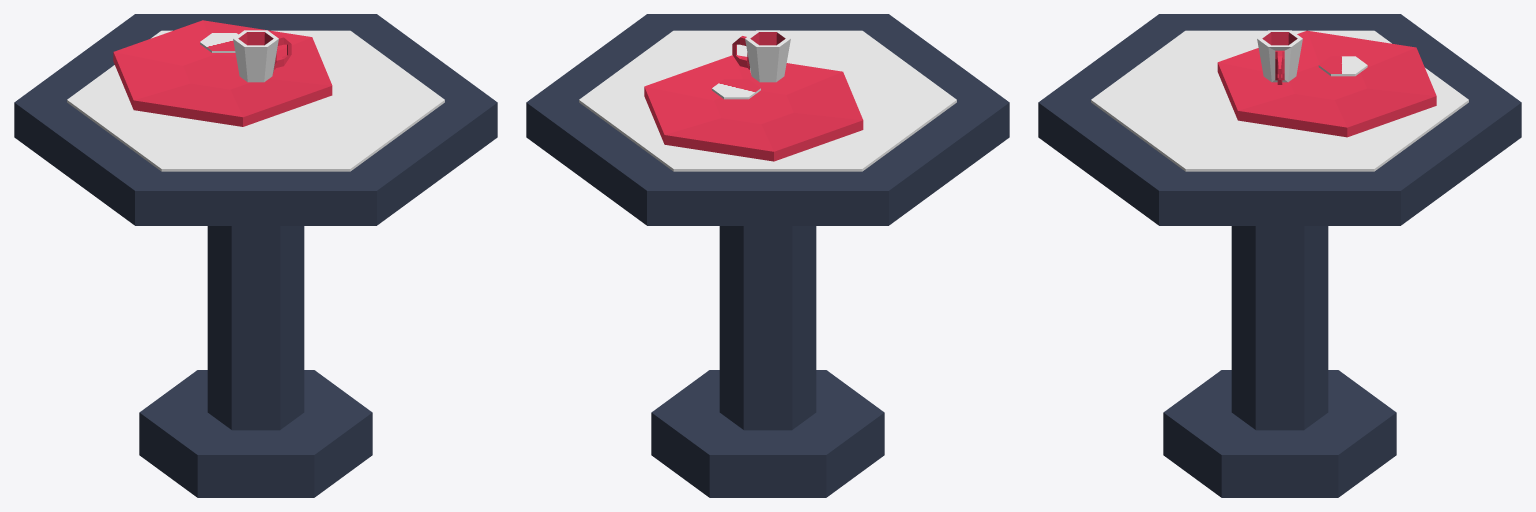
The model's file is assetFoyer.fbx.
The picture shows the model from 3 angles, left to right: view 1: azimuth 30°, elevation 25°; view 2: azimuth 150°, elevation 25°; view 3: azimuth 270°, elevation 25°; orthographic projection.
Visible parts, largest first — view 1: Table, Tray, Cup, Biscuit; view 2: Table, Tray, Cup, Biscuit; view 3: Table, Tray, Cup, Biscuit.
Boxes of the visible parts, x1,y1,x2,y2 form: Table: [14, 14, 497, 497]; Tray: [113, 20, 332, 126]; Cup: [233, 30, 291, 82]; Biscuit: [200, 33, 238, 52]; Table: [526, 14, 1009, 497]; Tray: [644, 55, 863, 161]; Cup: [732, 30, 790, 82]; Biscuit: [712, 79, 760, 99]; Table: [1038, 14, 1521, 497]; Tray: [1217, 30, 1436, 137]; Cup: [1257, 30, 1302, 84]; Biscuit: [1318, 56, 1367, 76].
Bounding box in the file's own units: 359 × 395 × 415.
